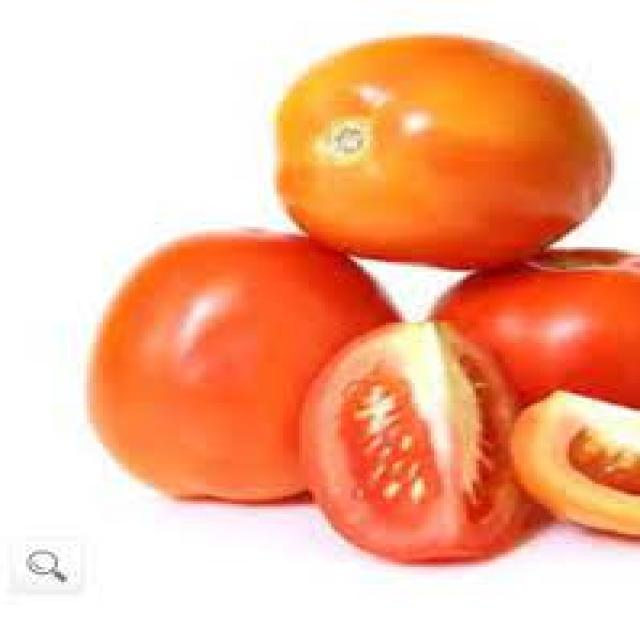Fresh_tomato: (101, 218, 382, 500), (269, 41, 602, 253), (305, 314, 535, 568), (443, 266, 640, 446)
